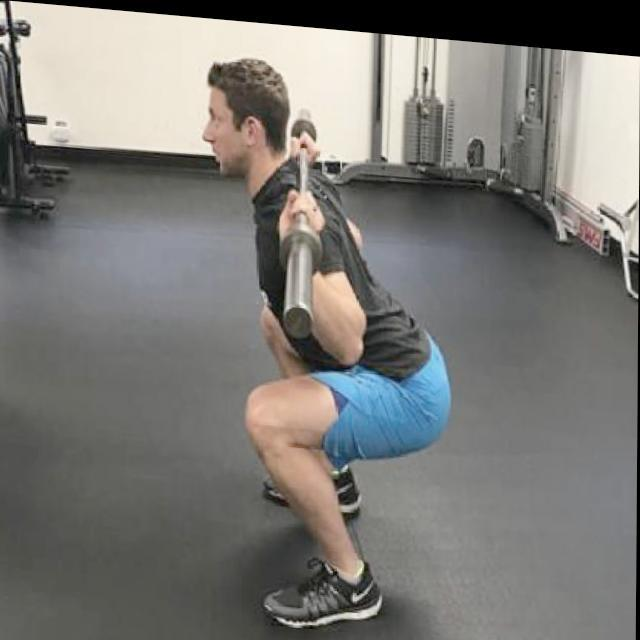barbell: (282, 217, 324, 339)
